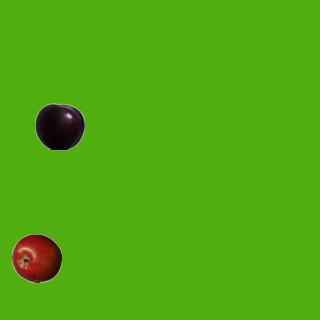Apple Braeburn: (11, 233, 61, 283)
Cherry Wax Black: (34, 101, 84, 151)
